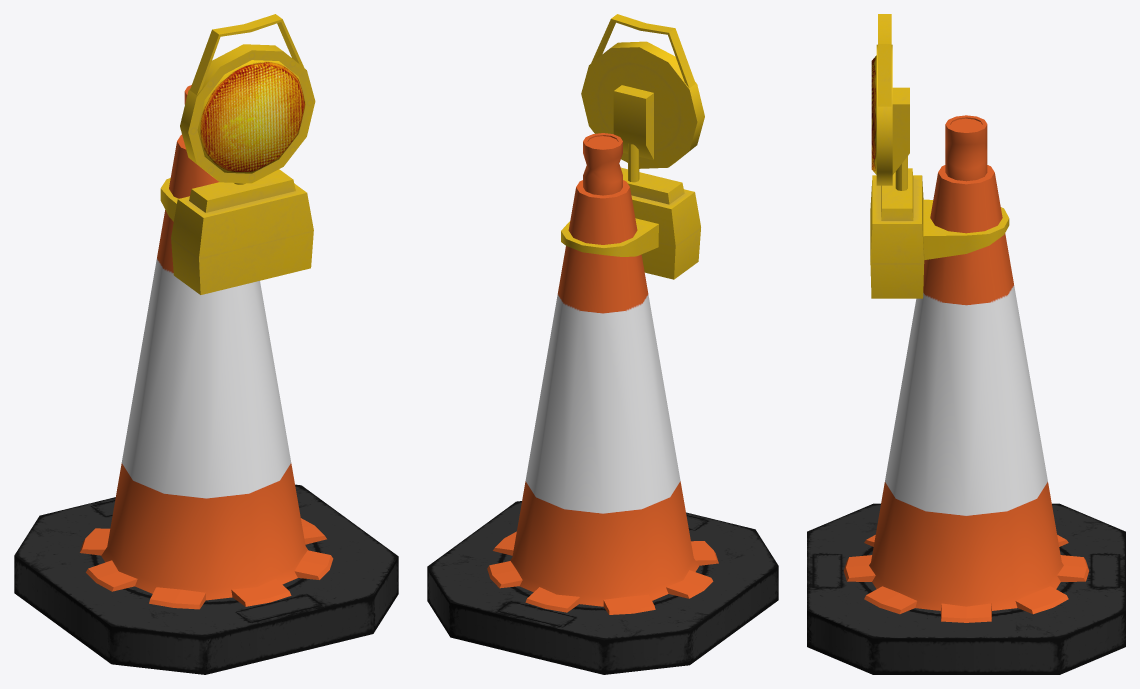
The model's file is Traffic Cone With Lights.obj.
The picture shows the model from 3 angles, left to right: view 1: azimuth 30°, elevation 25°; view 2: azimuth 150°, elevation 25°; view 3: azimuth 270°, elevation 25°; orthographic projection. The views are drawn at different scales.
Visible parts, largest first — view 1: Traffic_Cone_With_Lights; view 2: Traffic_Cone_With_Lights; view 3: Traffic_Cone_With_Lights.
Part boxes in pixels (x1,y1,x2,y2): Traffic_Cone_With_Lights: (14, 14, 398, 674); Traffic_Cone_With_Lights: (427, 14, 778, 674); Traffic_Cone_With_Lights: (807, 14, 1125, 674).
Bounding box in the file's own units: 47.46 × 94.92 × 47.46.
2 materials, 2 textured.
